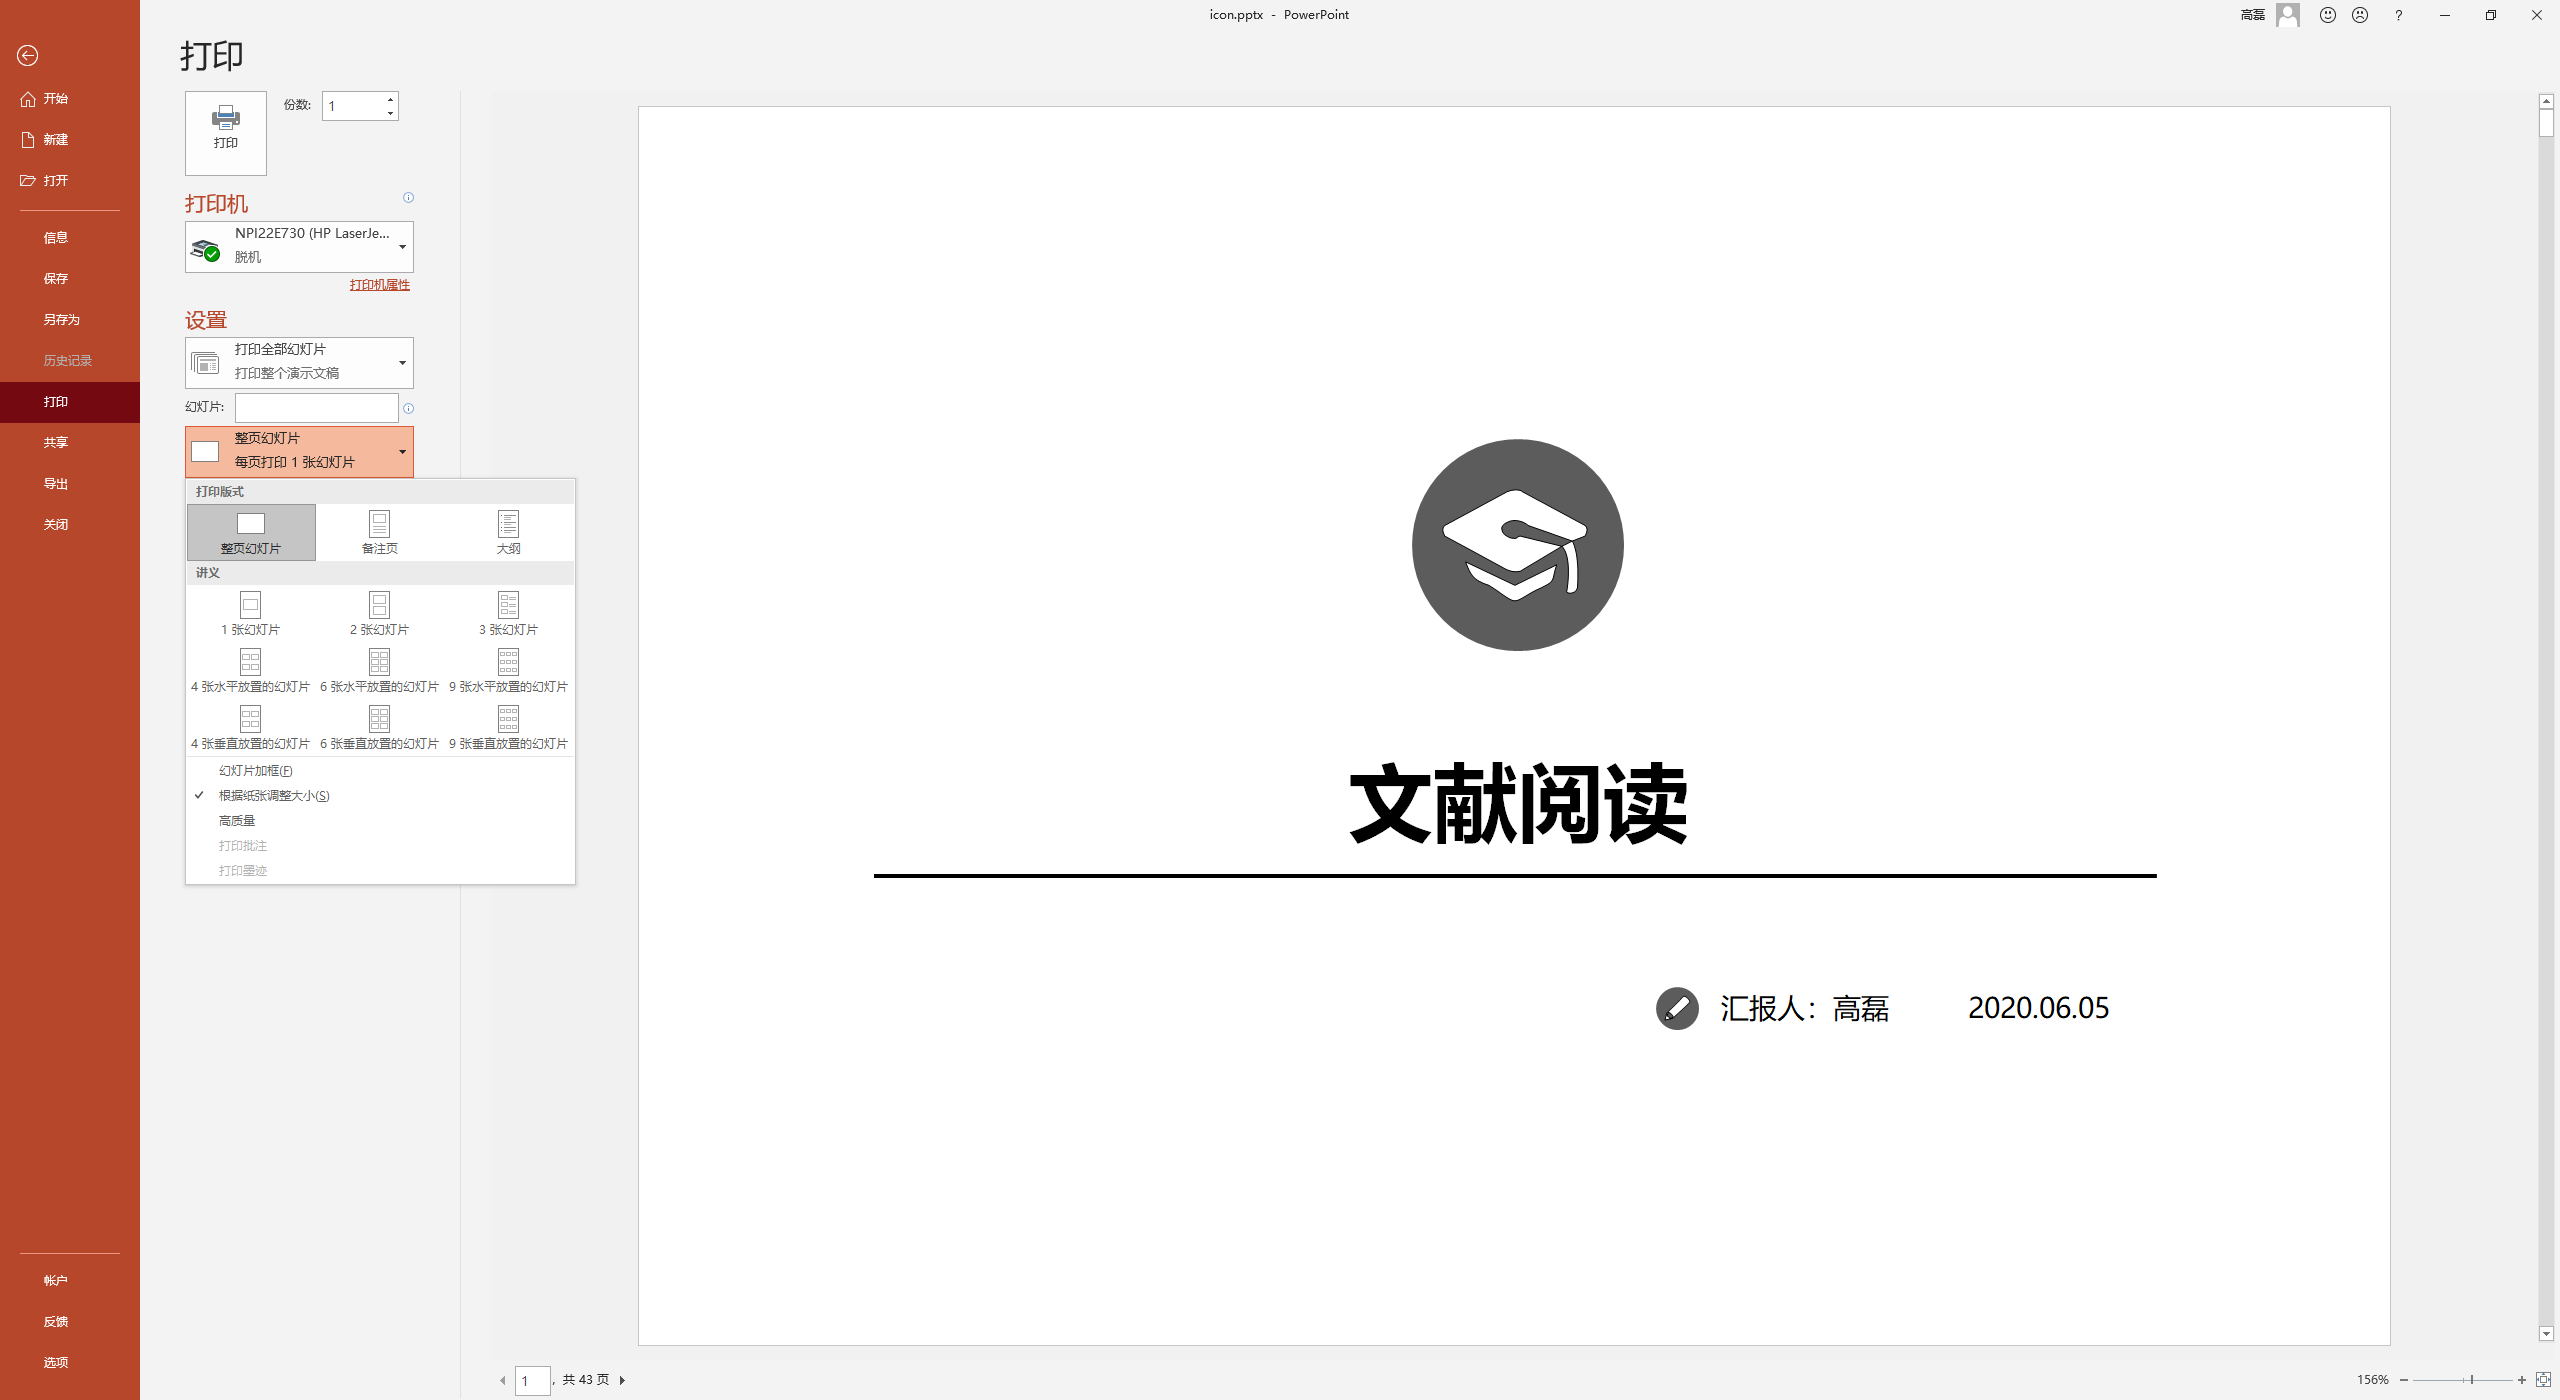character: (1345, 755, 1696, 852), (1719, 986, 1891, 1024), (1965, 986, 2122, 1022), (236, 224, 391, 243), (1203, 3, 1352, 22), (178, 36, 247, 71), (321, 678, 438, 695), (219, 786, 329, 803), (319, 736, 441, 752), (190, 679, 310, 695), (190, 736, 309, 752), (448, 679, 565, 695), (446, 736, 567, 750), (236, 455, 355, 469), (183, 191, 250, 216), (234, 366, 341, 378), (548, 1371, 614, 1390), (229, 341, 331, 353), (345, 276, 414, 291), (186, 310, 233, 333), (41, 309, 88, 329), (221, 540, 283, 555), (231, 429, 300, 443), (40, 352, 93, 369), (479, 622, 538, 636), (197, 481, 248, 497), (219, 764, 295, 774), (217, 838, 272, 852), (217, 622, 279, 634), (212, 814, 265, 828), (215, 864, 276, 876), (41, 516, 76, 534), (179, 398, 226, 412), (348, 624, 409, 634), (41, 1310, 74, 1329), (41, 226, 71, 247), (41, 472, 71, 493), (41, 1271, 72, 1290), (34, 269, 74, 283), (233, 250, 271, 264), (40, 436, 72, 452), (45, 167, 69, 188), (279, 97, 315, 110), (210, 134, 241, 150), (2358, 1371, 2389, 1386), (360, 541, 398, 553), (41, 1355, 71, 1371), (40, 395, 71, 409), (2243, 5, 2265, 22), (45, 133, 71, 147), (45, 91, 74, 103), (198, 562, 221, 576), (519, 1374, 533, 1391), (496, 545, 522, 553), (326, 100, 340, 110)
icon: (1441, 490, 1584, 605), (186, 236, 221, 267), (190, 348, 221, 378), (236, 588, 264, 621), (236, 647, 264, 676), (1662, 995, 1691, 1022), (210, 103, 241, 129), (365, 507, 391, 538), (495, 507, 521, 538), (365, 590, 391, 619), (236, 703, 262, 733), (365, 703, 391, 733), (234, 510, 265, 534), (190, 440, 221, 464), (2274, 2, 2301, 28), (365, 648, 391, 676), (496, 590, 521, 619), (496, 703, 521, 733), (496, 648, 521, 676), (495, 1366, 512, 1395), (16, 45, 38, 66), (2350, 3, 2370, 24), (2317, 3, 2338, 24), (2465, 1364, 2482, 1388), (17, 129, 36, 148), (17, 171, 36, 190), (381, 105, 402, 122), (617, 1369, 633, 1390), (19, 90, 36, 107), (2389, 5, 2407, 22), (2538, 1324, 2555, 1341), (2534, 1371, 2551, 1388), (2436, 7, 2453, 22), (383, 91, 403, 103), (2539, 91, 2555, 107), (2482, 7, 2498, 21), (2529, 7, 2544, 21), (191, 786, 205, 802), (2513, 1372, 2529, 1386), (402, 402, 414, 416), (396, 240, 410, 252), (402, 190, 414, 203), (396, 445, 409, 457), (2398, 1372, 2410, 1384), (396, 355, 407, 367)
